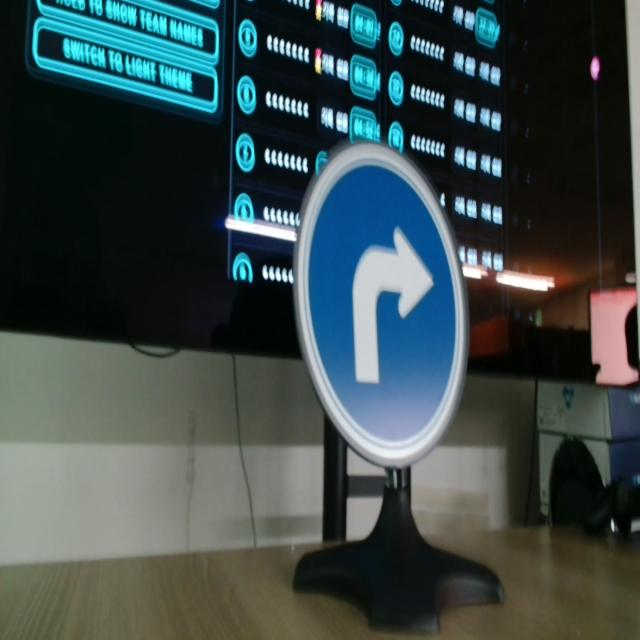right_dierection: (287, 136, 471, 480)
